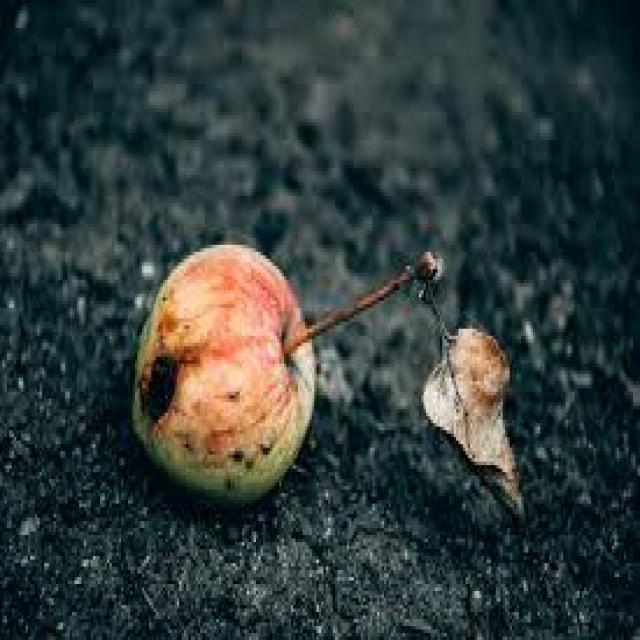Rotten Apple: (135, 245, 318, 498)
